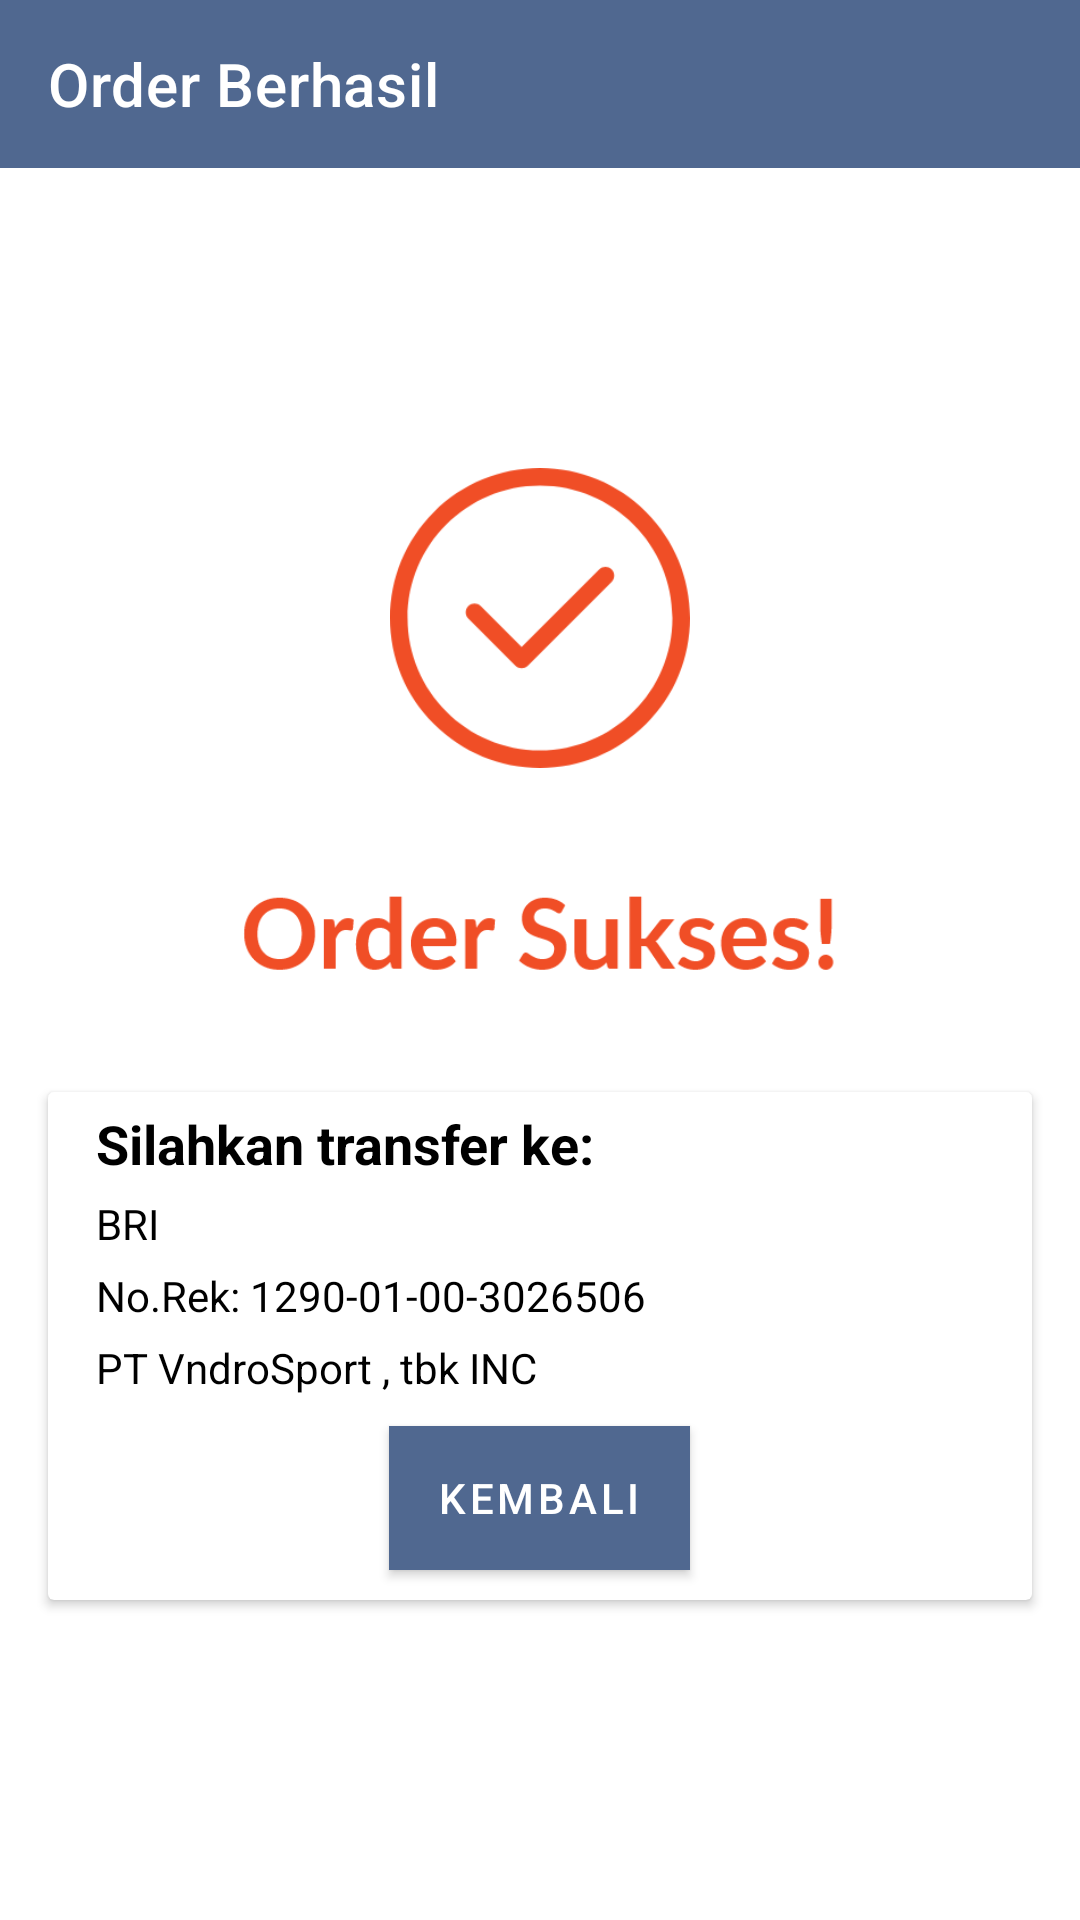

Screen size 1080×1920. Icon name, then its center in pixels as [x,y]:
check: [540,618]
